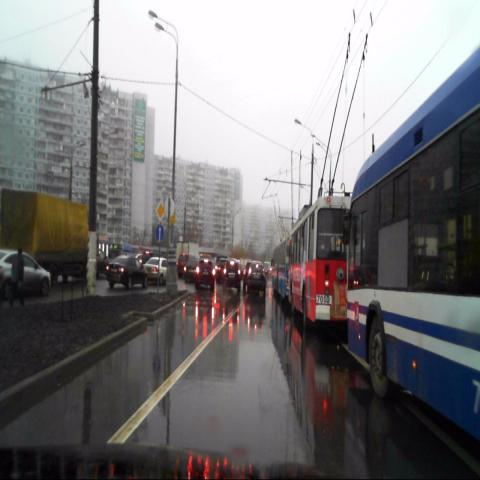2_1: (156, 199, 165, 225)
4_1_1: (156, 225, 164, 241)
